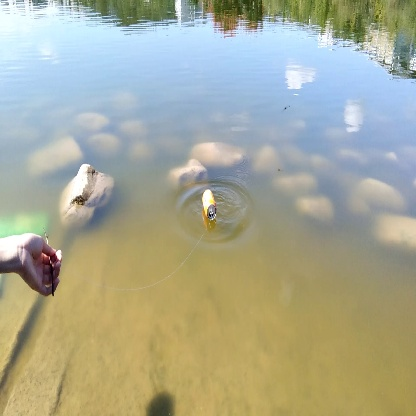bottle: (196, 185, 225, 226)
